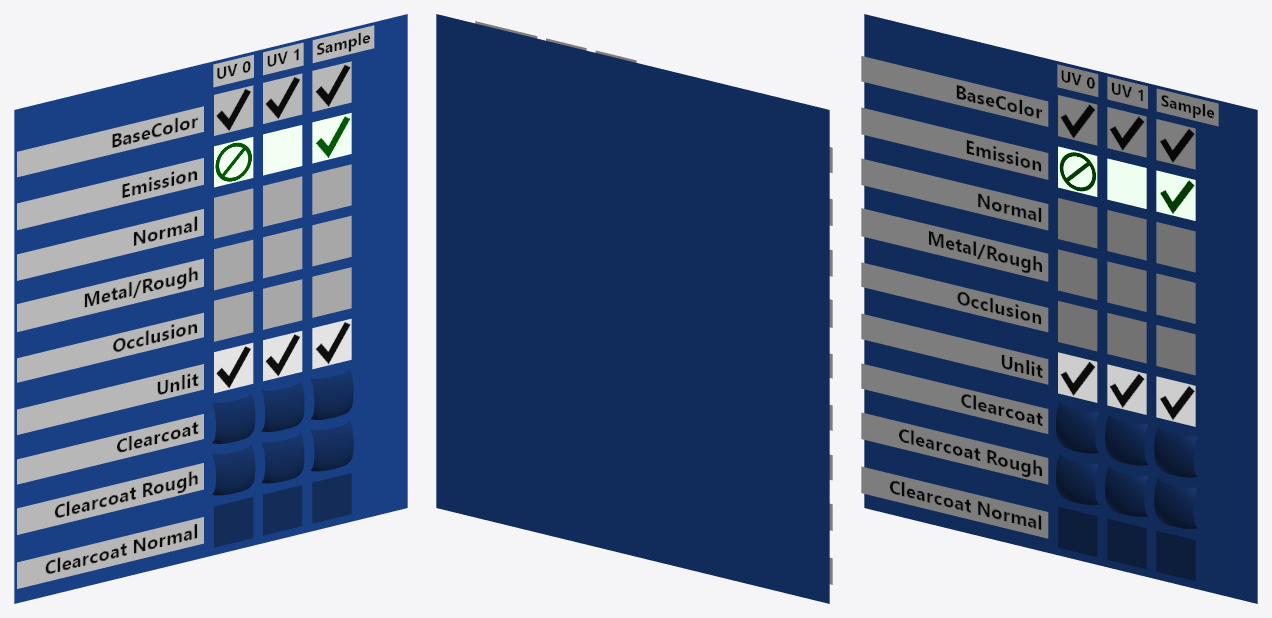
Rendered from TextureTransformMultiTest.glb.
3 renders of one model, left to right at view 1: azimuth 30°, elevation 25°; view 2: azimuth 150°, elevation 25°; view 3: azimuth 330°, elevation 25°, orthographic.
Visible parts, largest first — view 1: Background, Labels, ClearcoatUV0, OcclusionSample, BaseColorUV0, UnlitSample, ClearcoatUV1, ClearcoatSample, ClearcoatRoughSample, ClearcoatNormalUV0, BaseColorUV1, BaseColorSample (+17 smaller); view 2: Background, Labels; view 3: Background, Labels, ClearcoatUV1, ClearcoatUV0, BaseColorUV0, EmissionUV1, NormalUV1, NormalSample, MetalRoughSample, ClearcoatNormalUV1, BaseColorUV1, BaseColorSample (+17 smaller).
Part boxes in pixels (x1,y1,x2,y2): Background: (14,14,407,603); Labels: (17,25,374,588); ClearcoatUV0: (212,393,255,443); OcclusionSample: (312,267,351,317); BaseColorUV0: (214,85,253,135); UnlitSample: (312,318,351,369); ClearcoatUV1: (261,381,304,431); ClearcoatSample: (310,369,353,419); ClearcoatRoughSample: (310,420,353,471); ClearcoatNormalUV0: (214,497,253,547); BaseColorUV1: (263,73,302,123); BaseColorSample: (312,61,351,111); Background: (436,14,829,603); Labels: (475,21,832,584); Background: (864,14,1257,603); Labels: (861,56,1218,538); ClearcoatUV1: (1105,415,1147,465); ClearcoatUV0: (1056,403,1098,453); BaseColorUV0: (1058,95,1097,145); EmissionUV1: (1107,158,1146,208); NormalUV1: (1107,210,1146,260); NormalSample: (1156,222,1195,272); MetalRoughSample: (1156,273,1195,323); ClearcoatNormalUV1: (1107,518,1146,569); BaseColorUV1: (1107,107,1146,157); BaseColorSample: (1156,119,1195,169).
Bounding box in the file's own units: 2 × 2.4 × 0.0601.
29 materials, 7 textured.
